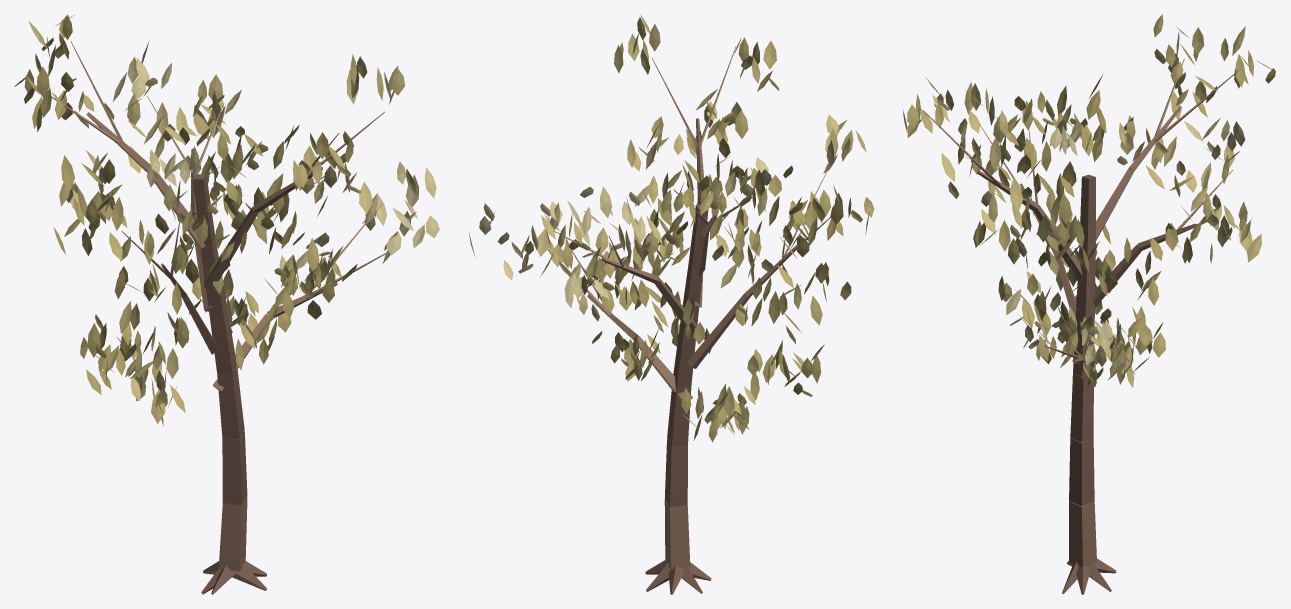
The model's file is tree_3d_06_yellow.glb.
3 views of the same model, side by side, from view 1: azimuth 30°, elevation 25°; view 2: azimuth 150°, elevation 25°; view 3: azimuth 270°, elevation 25° (orthographic). The views are drawn at different scales.
Visible parts, largest first — view 1: tree_3d_06_yellow_foliage, tree_3d_06_yellow_wood; view 2: tree_3d_06_yellow_foliage, tree_3d_06_yellow_wood; view 3: tree_3d_06_yellow_foliage, tree_3d_06_yellow_wood.
Boxes of the visible parts, x1,y1,x2,y2 form: tree_3d_06_yellow_foliage: (14,14,439,426); tree_3d_06_yellow_wood: (51,41,385,594); tree_3d_06_yellow_foliage: (468,14,874,442); tree_3d_06_yellow_wood: (537,46,830,594); tree_3d_06_yellow_foliage: (903,14,1275,387); tree_3d_06_yellow_wood: (923,58,1239,594).
Size of the model in its own units: 5.8 by 8 by 5.2.
